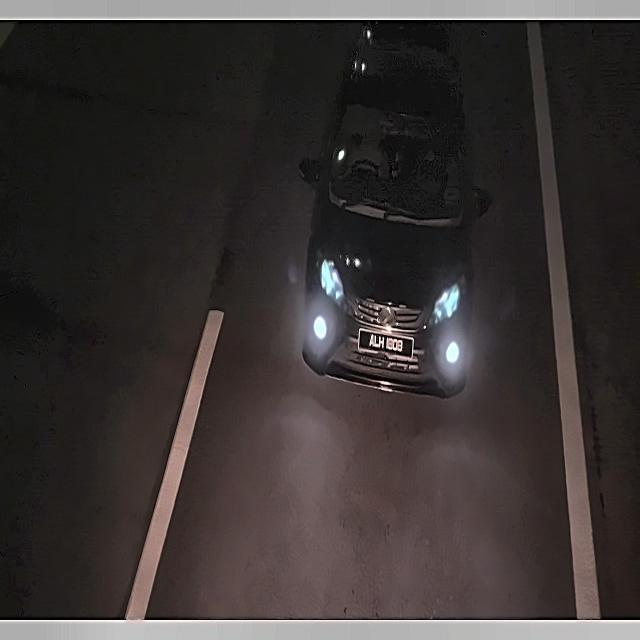car: (358, 320, 416, 377)
